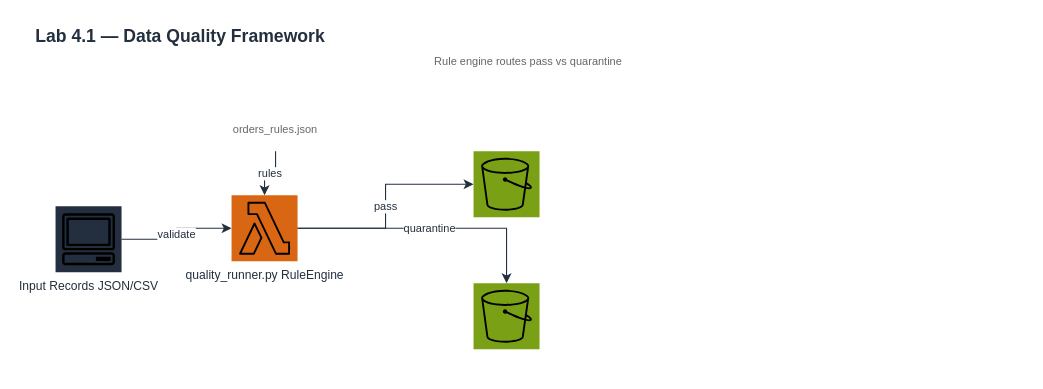
The diagram is 1043 pixels wide and 389 high, and some of its shapes have lost their labels. Here are the shapes that lost their labels. From the top down, the box of each, then its label:
(473, 151, 539, 217): passed_records.json
(473, 283, 539, 349): quarantined_records.json
